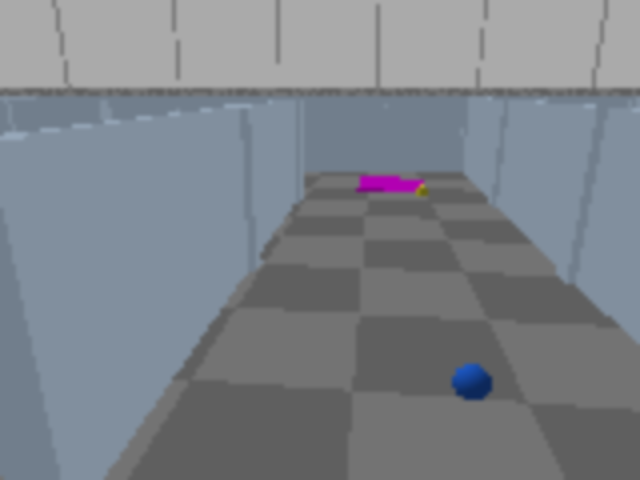goal_zone: (358, 177, 427, 192)
puck: (446, 355, 501, 412)
